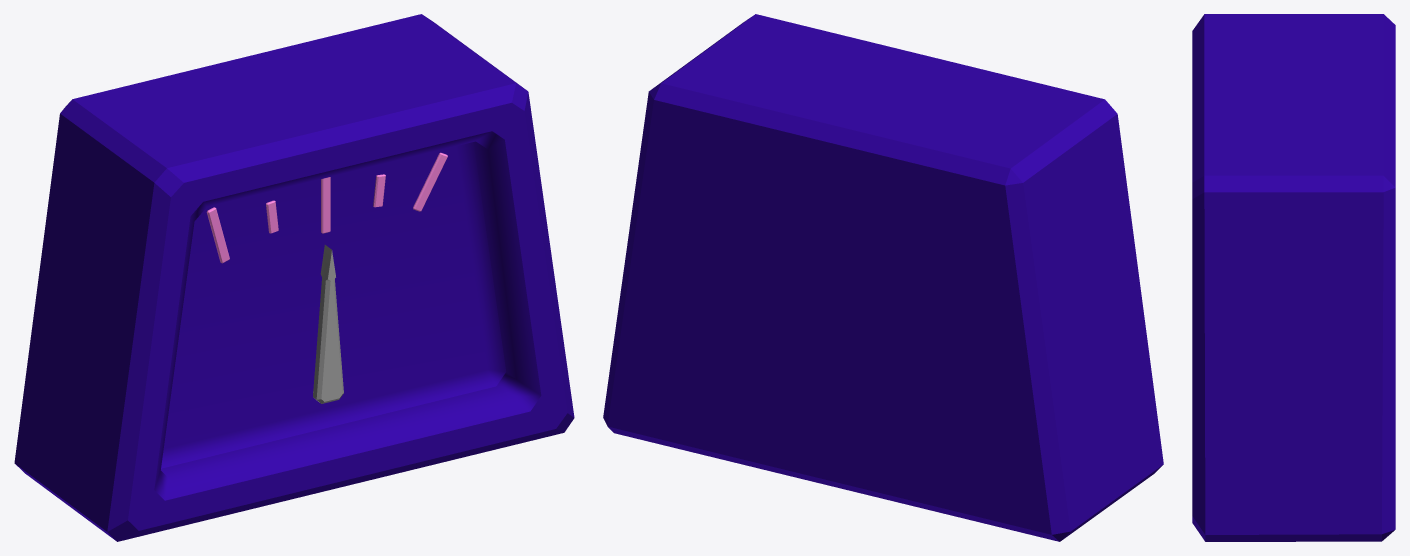
File: gauge.fbx
3 renders of one model, left to right at view 1: azimuth 30°, elevation 25°; view 2: azimuth 150°, elevation 25°; view 3: azimuth 270°, elevation 25°, orthographic. The views are drawn at different scales.
Visible parts, largest first — view 1: gaugeMeterBox, gaugeMeter, tickMarks; view 2: gaugeMeterBox; view 3: gaugeMeterBox.
Boxes of the visible parts, x1,y1,x2,y2 form: gaugeMeterBox: (14,14,574,541); gaugeMeter: (313,245,343,403); tickMarks: (206,152,447,263); gaugeMeterBox: (603,14,1163,541); gaugeMeterBox: (1192,14,1395,541).
Bounding box in the file's own units: 51.49 × 38.11 × 20.43.
